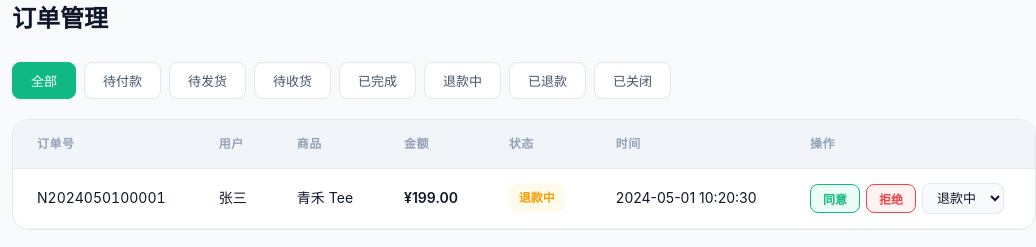
Test case: admin/Orders 订单管理 › 退款审核：同意退款后状态变为已退款
The image size is (1036, 247).
Click the button with class "btn-approve": x=835, y=198 810,184 -> 860,213
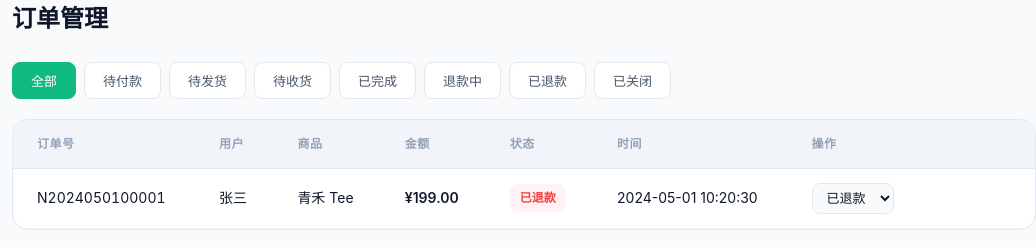
Expected: the text with class "status-badge" reads "已退款", 520,190 -> 556,206
